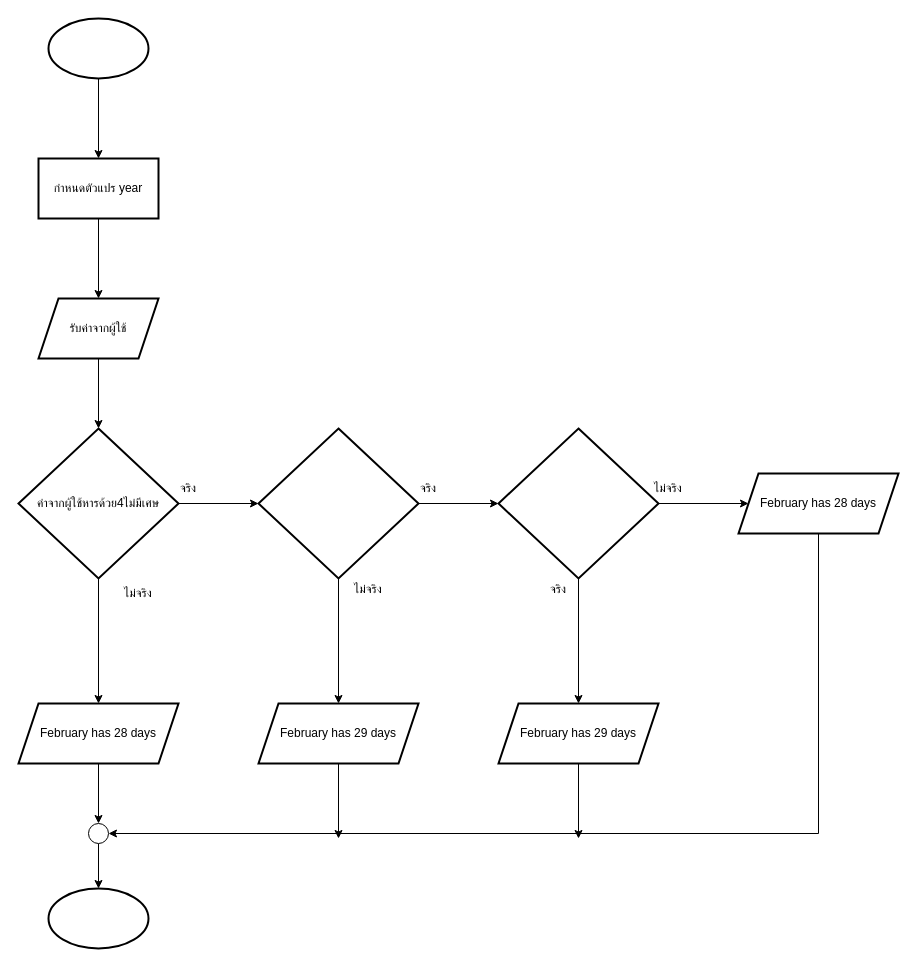
Image size: 916x966. Some labels were removed from this diagram. Each missing label, with the box of its shape:
end: (47, 887, 149, 949)
start: (47, 17, 149, 79)
ค่าจากผู้ใช้หารด้วย100ไม่มีเศษ: (257, 427, 419, 579)
ค่าจากผู้ใช้หารด้วย400ไม่มีเศษ: (497, 427, 659, 579)
